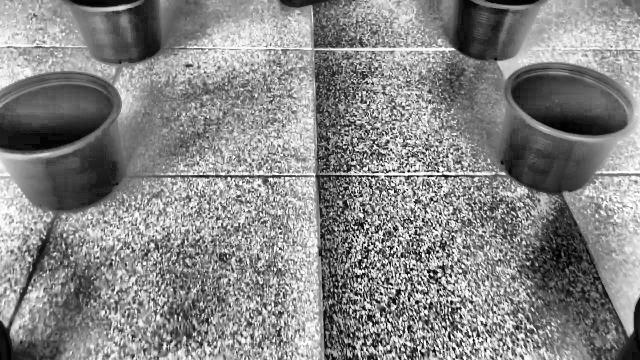pot: (500, 62, 640, 194), (0, 72, 127, 213)
